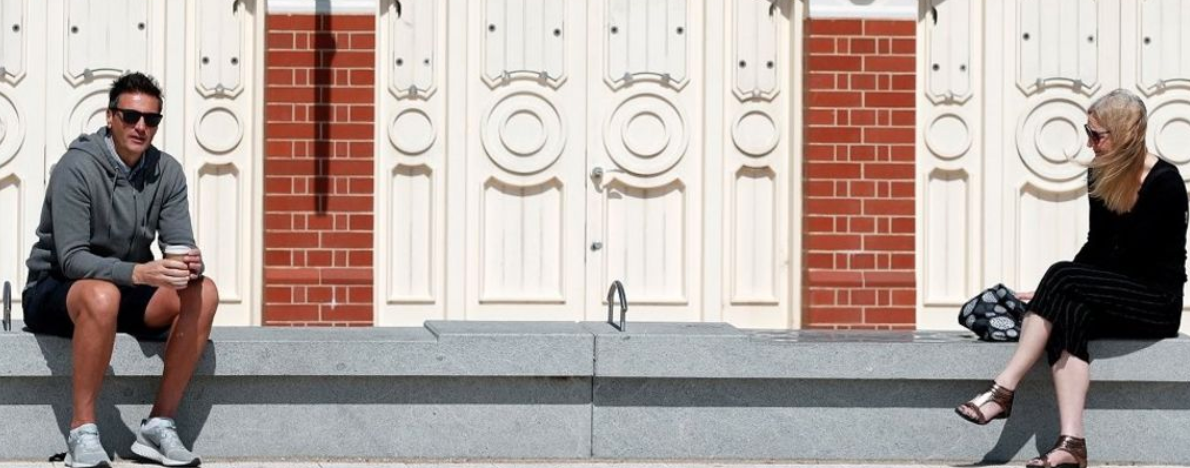Good: (31, 61, 1190, 462)
